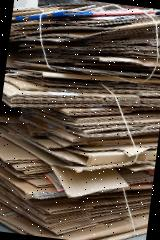paper: (47, 159, 132, 204)
